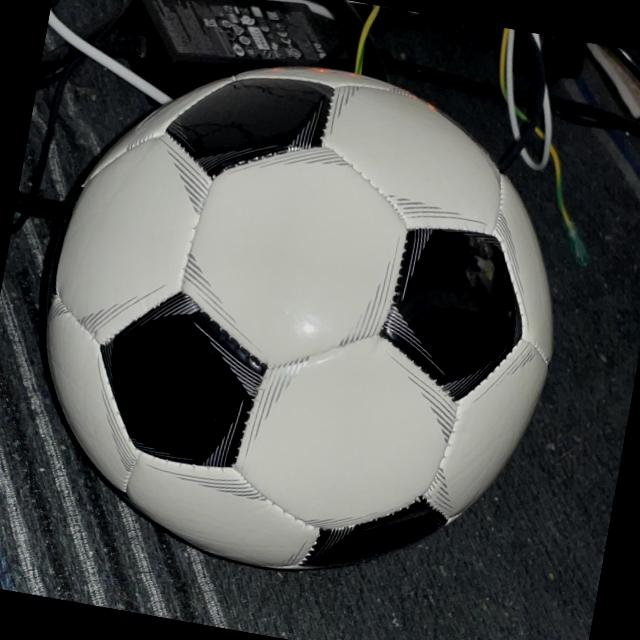Soccer Ball: (5, 28, 594, 613)
